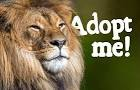lion: (2, 6, 79, 90)
